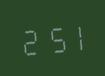five: (41, 21, 62, 55)
one: (63, 19, 84, 53)
two: (18, 22, 39, 57)
